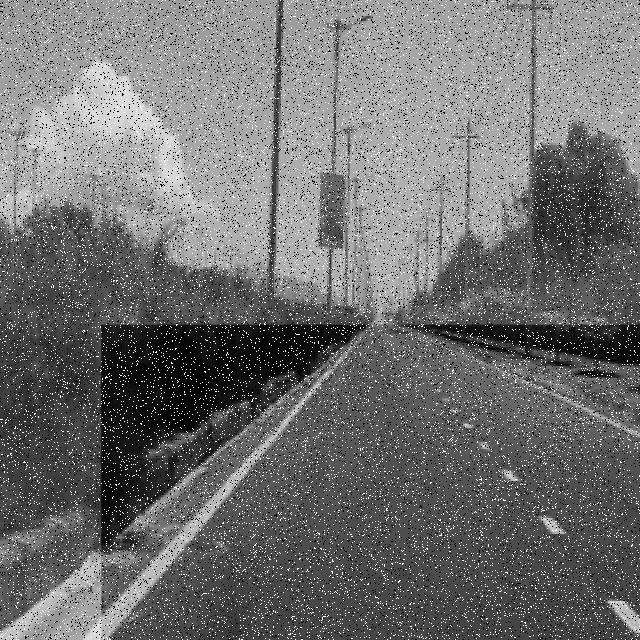clear-road: (114, 327, 640, 640)
